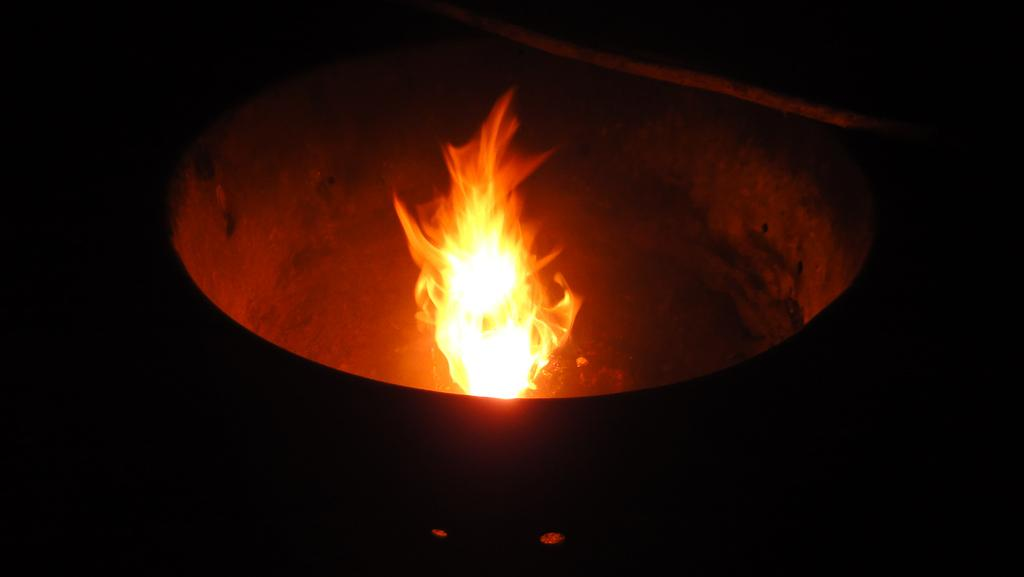fire: (423, 183, 556, 384)
